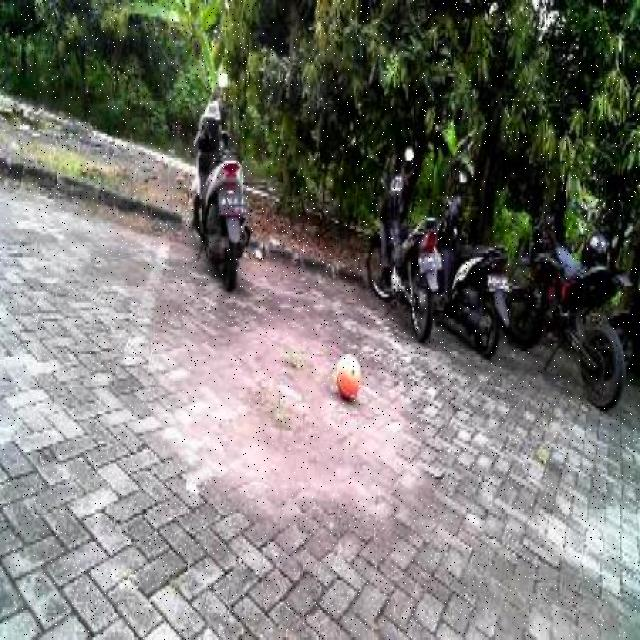buoy: (328, 343, 368, 411)
